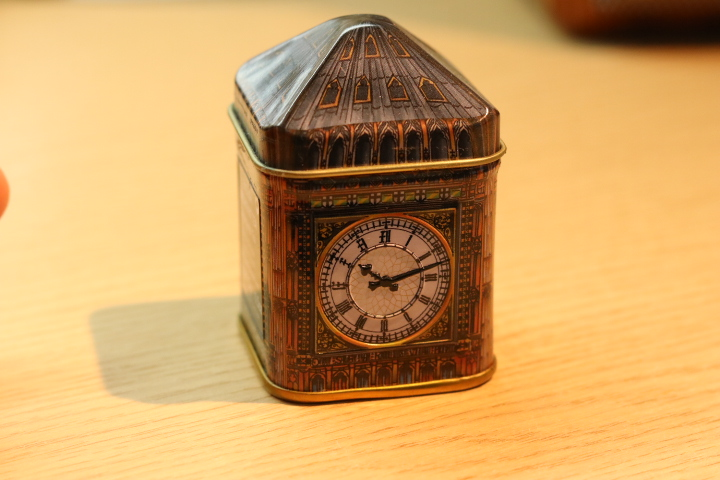Big Ben: (220, 7, 523, 414)
